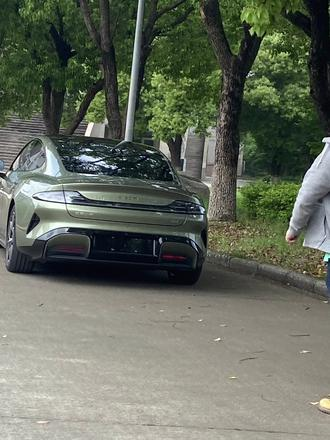su7: (0, 136, 212, 291)
